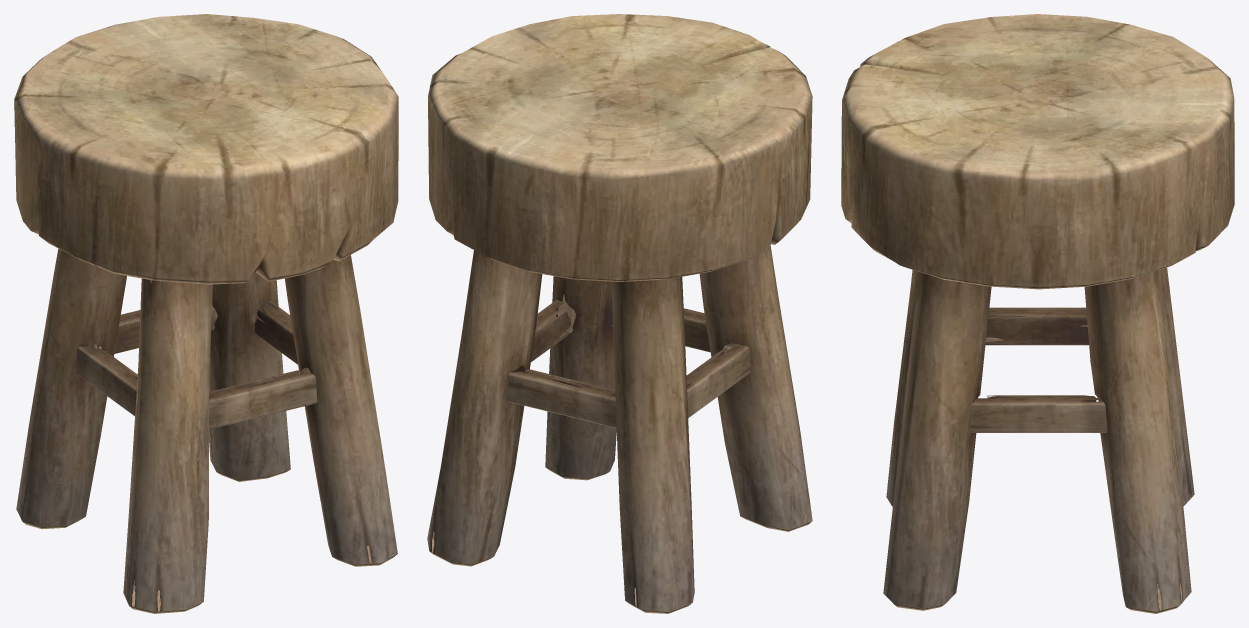
The picture shows the model from 3 angles, left to right: view 1: azimuth 30°, elevation 25°; view 2: azimuth 150°, elevation 25°; view 3: azimuth 270°, elevation 25°; orthographic projection. The views are drawn at different scales.
Visible parts, largest first — view 1: SM_Stool_01v1_LOD0; view 2: SM_Stool_01v1_LOD0; view 3: SM_Stool_01v1_LOD0.
Boxes of the visible parts, box(x1,y1,x2,y2) form: SM_Stool_01v1_LOD0: box(14, 14, 398, 613); SM_Stool_01v1_LOD0: box(427, 14, 812, 613); SM_Stool_01v1_LOD0: box(841, 14, 1234, 613).
Size of the model in its own units: 0.3952 by 0.5064 by 0.3959.
1 material, 1 textured.
